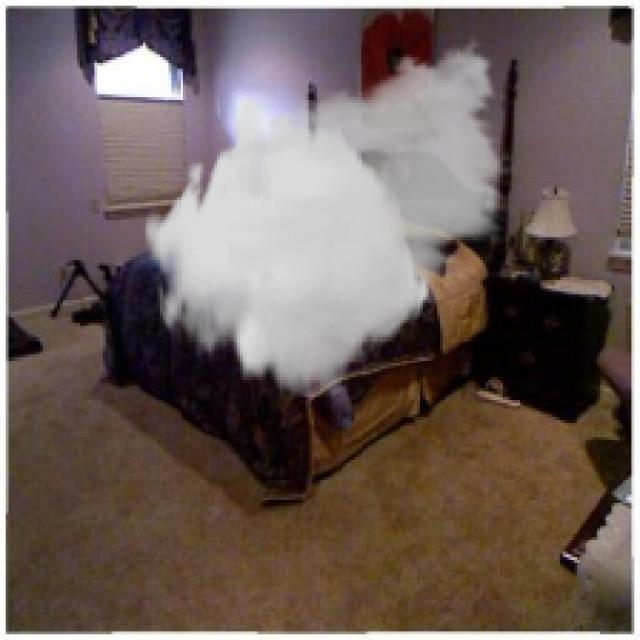Smoke: (142, 32, 518, 397)
